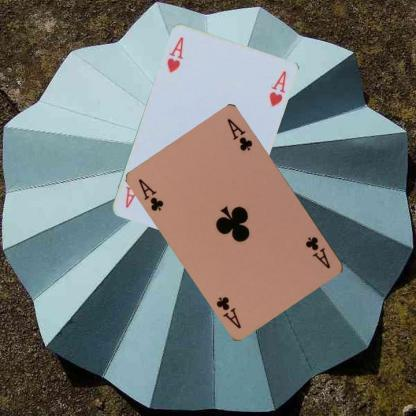Ac: (302, 233, 332, 270), (136, 176, 166, 212)
Ah: (165, 34, 185, 74)
